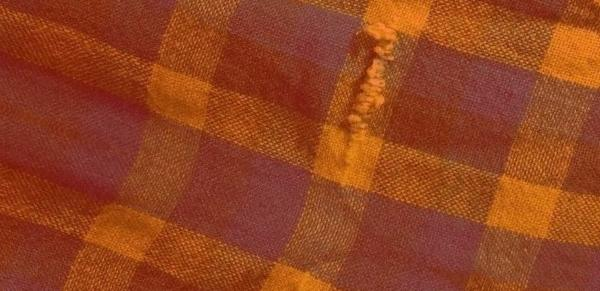knot: (345, 20, 397, 148)
